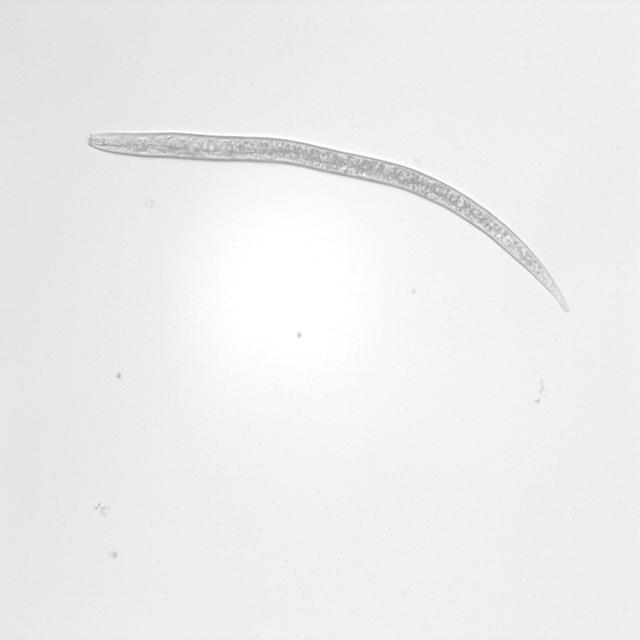Radopholus: (79, 126, 586, 319)
